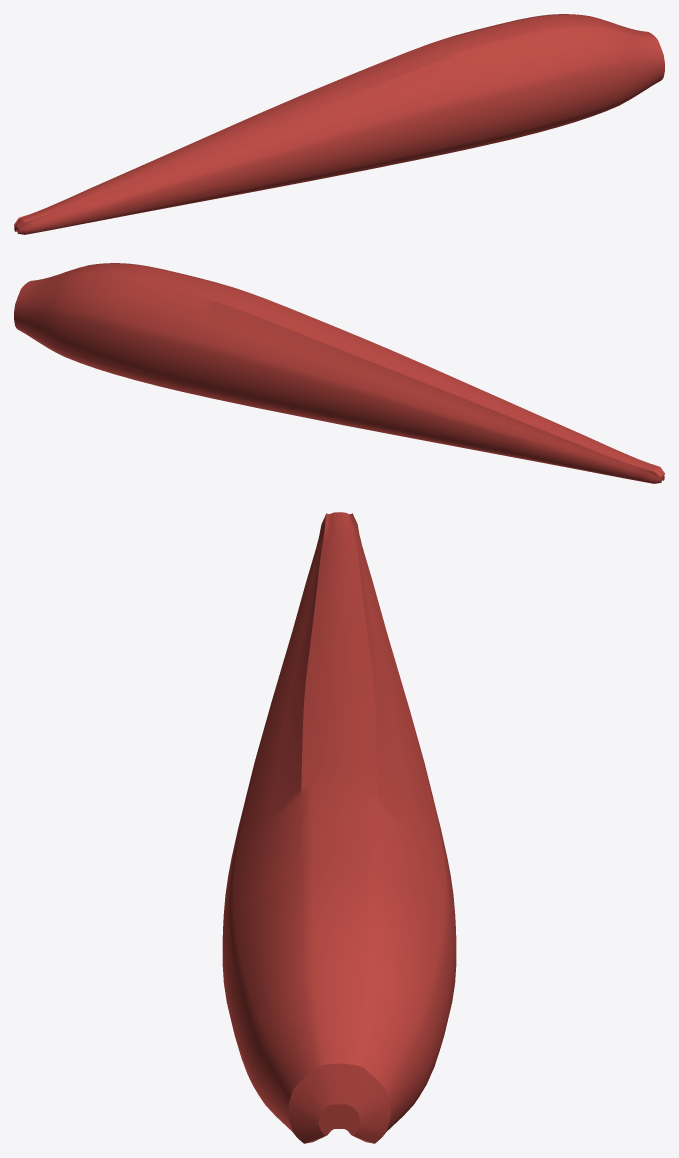
File: chopper_3_lod2.glb
3 views of the same model, one above another, from view 1: azimuth 30°, elevation 25°; view 2: azimuth 150°, elevation 25°; view 3: azimuth 270°, elevation 25° (orthographic). The views are drawn at different scales.
Parts seen in each view (by area): view 1: chopper_3_lod2; view 2: chopper_3_lod2; view 3: chopper_3_lod2.
Boxes of the visible parts, left/top/right/bottom form: chopper_3_lod2: left=14, top=14, right=664, bottom=234; chopper_3_lod2: left=14, top=263, right=664, bottom=483; chopper_3_lod2: left=222, top=512, right=456, bottom=1143.
Bounding box in the file's own units: 1.06 × 0.1436 × 0.1681.
